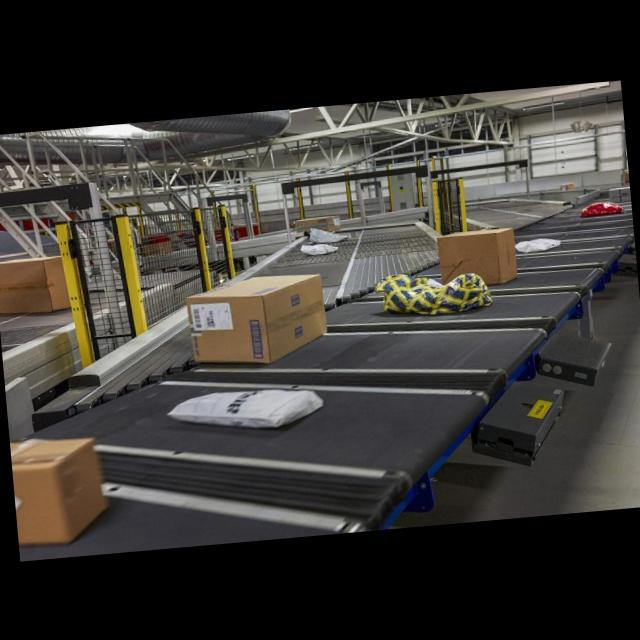box: (188, 273, 326, 362), (9, 437, 106, 543), (438, 226, 516, 283), (0, 255, 68, 311), (295, 215, 339, 230), (610, 186, 631, 201)
mailer: (168, 388, 322, 426), (376, 272, 492, 313), (516, 236, 560, 252), (310, 226, 346, 242), (581, 201, 623, 214), (301, 242, 338, 254)
